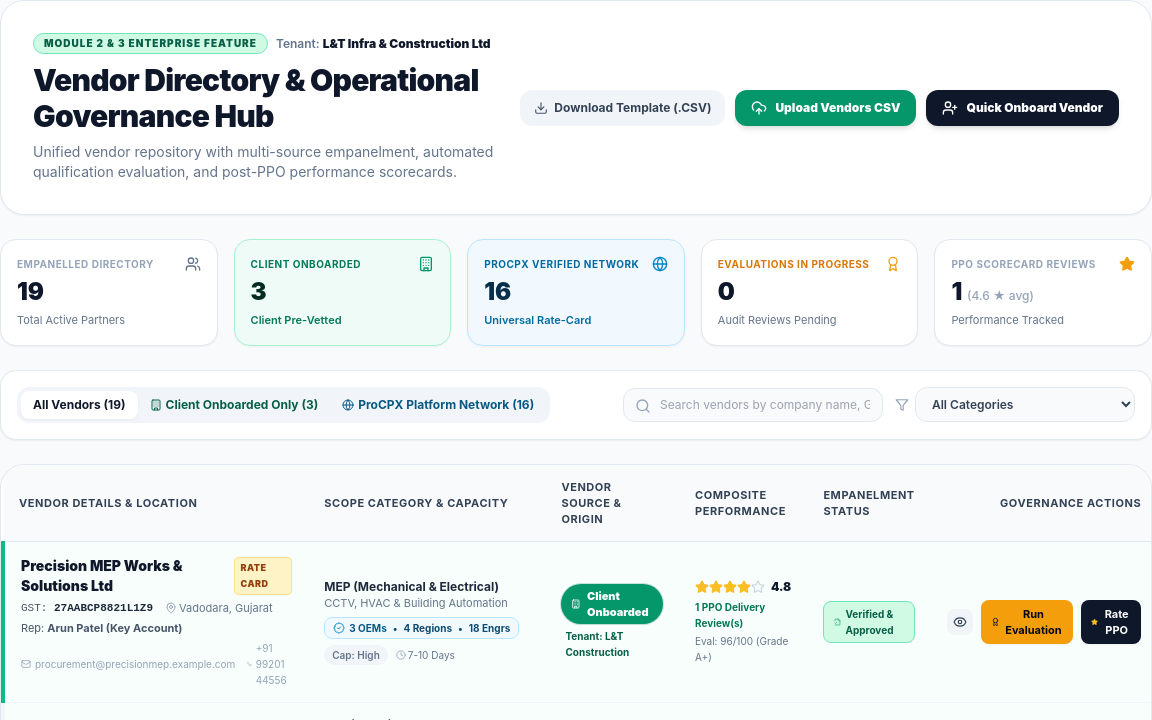
Test: VendorManagementModule Component › filters directory by vendor source (All, Client Only, ProCPX Only)
Click the button "Client Onboarded Only (3)".
click(234, 404)  # box 138,390 -> 330,418
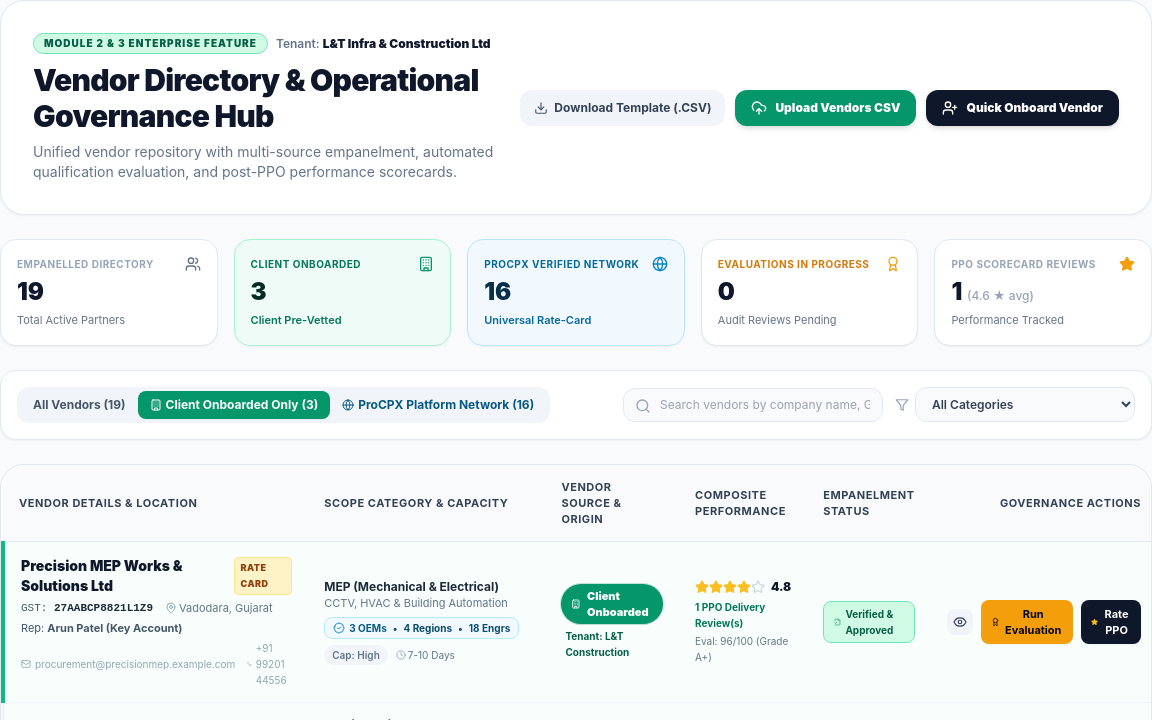
Expected: the element showing "Client Onboarded" in the row of "27AABCP8821L1Z9" is shown, 561,584 -> 663,624
Click the button "ProCPX Platform Network (16)".
click(438, 404)  # box 330,390 -> 546,418
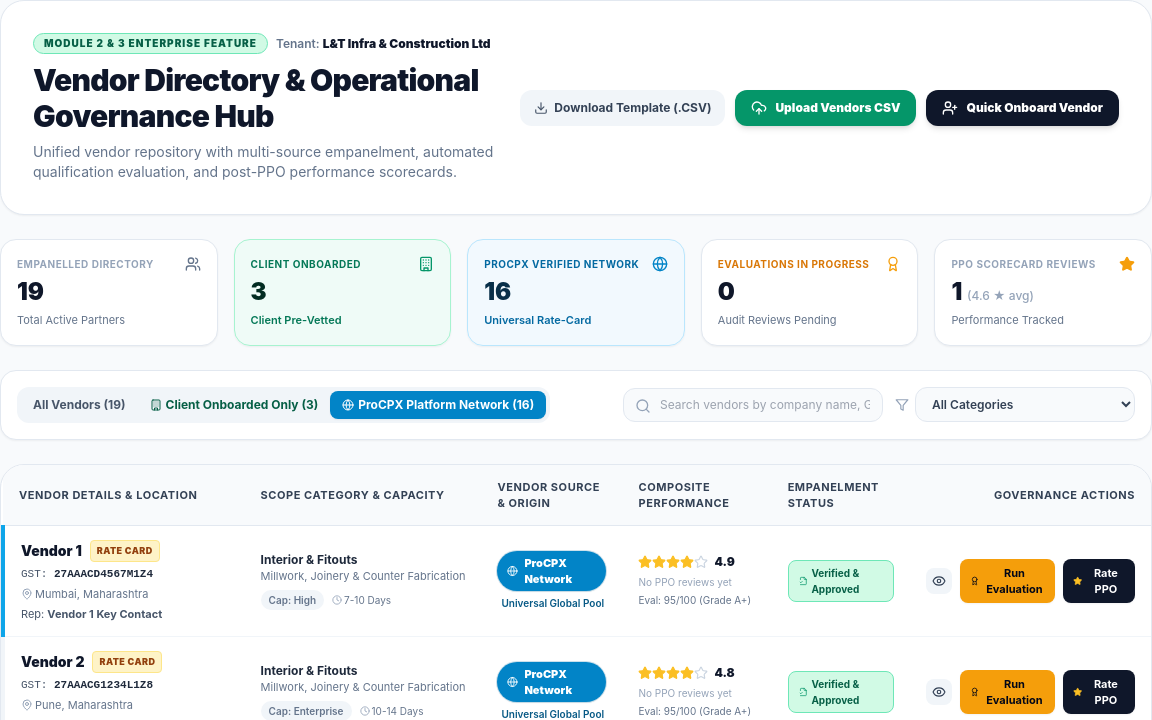
Expected: the element showing "ProCPX Network" in the row of "27AAACD4567M1Z4" is shown, 498,550 -> 606,590
